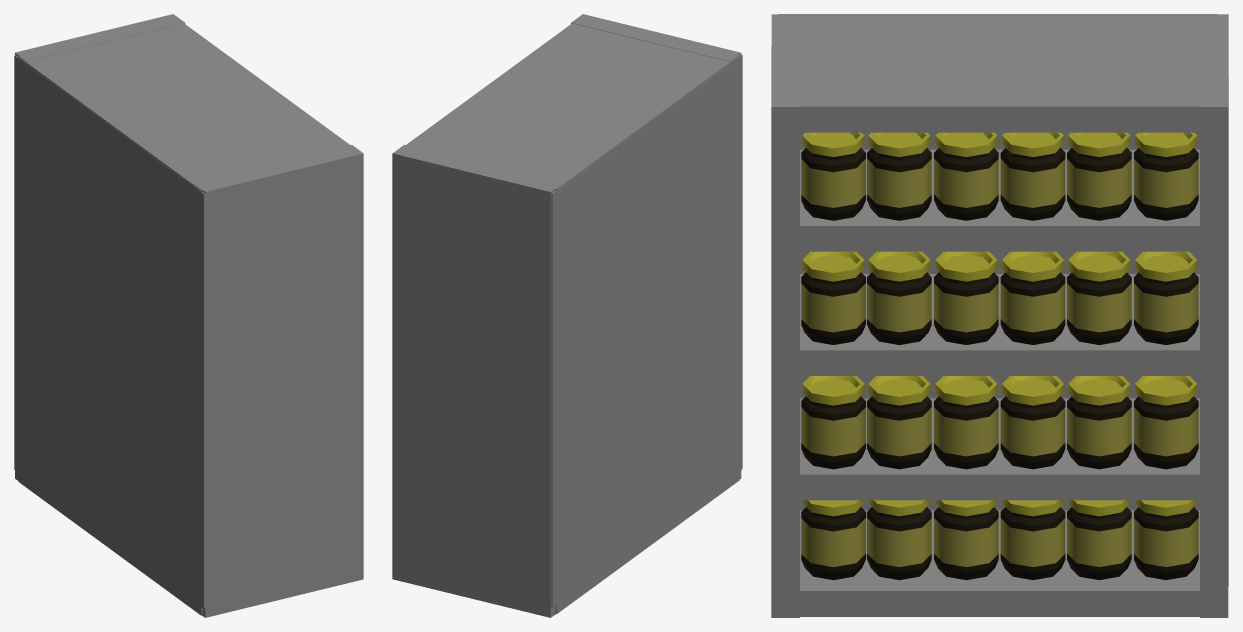
The model's file is marmite_shelf.gltf.
3 views of the same model, side by side, from view 1: azimuth 30°, elevation 25°; view 2: azimuth 150°, elevation 25°; view 3: azimuth 270°, elevation 25° (orthographic). The views are drawn at different scales.
Visible parts, largest first — view 1: Cube.003; view 2: Cube.003; view 3: Cube.003, peanutButter.024, peanutButter.028, peanutButter.026, peanutButter.030, peanutButter.023, peanutButter.027, peanutButter.025, peanutButter.029.
Part boxes in pixels (x1,y1,x2,y2): Cube.003: (14,14,363,617); Cube.003: (392,14,742,617); Cube.003: (771,14,1228,617); peanutButter.024: (867,251,1198,344); peanutButter.028: (867,376,1198,469); peanutButter.026: (867,132,1198,220); peanutButter.030: (867,500,1198,580); peanutButter.023: (801,251,865,344); peanutButter.027: (801,376,865,469); peanutButter.025: (801,132,865,220); peanutButter.029: (801,500,865,580).
Bounding box in the file's own units: 4.03 × 10.28 × 8.34.
